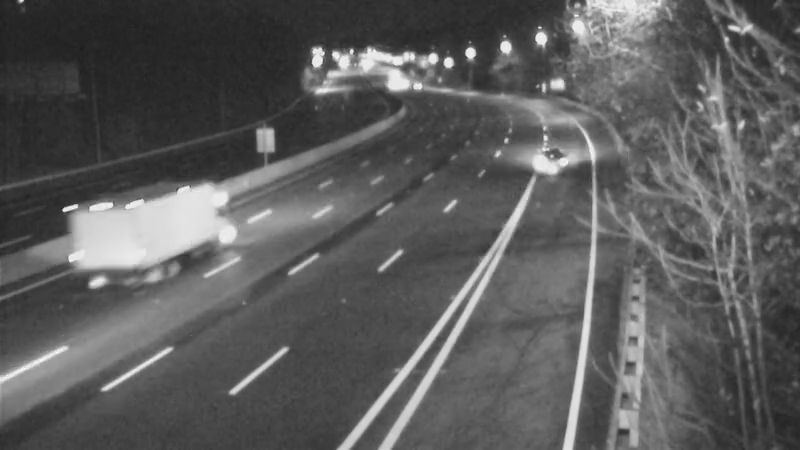vehicle: (513, 114, 593, 194), (135, 173, 215, 253), (392, 64, 442, 114)
